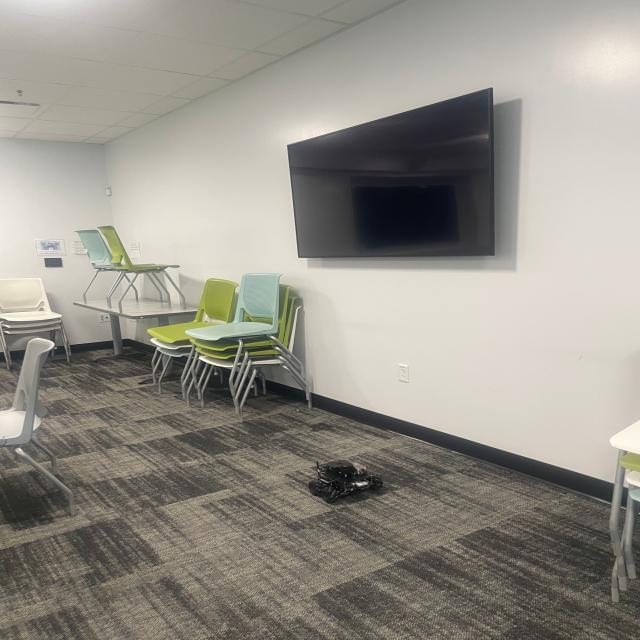ArduinoCar: (292, 456, 392, 504)
